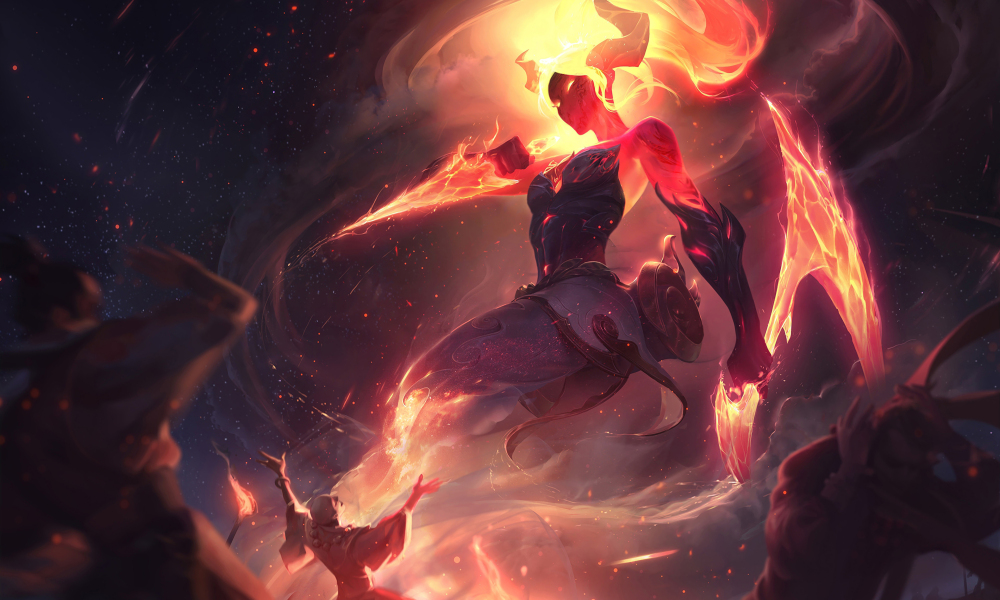face: (510, 3, 665, 160)
